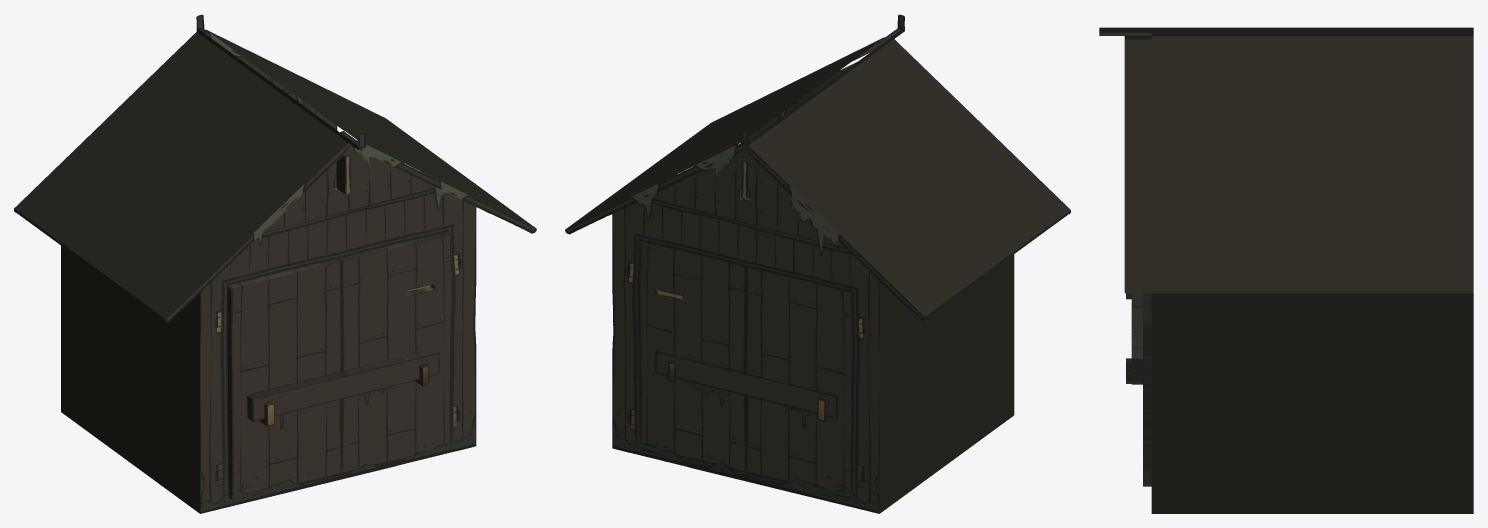
Rendered from little_house.fbx.
3 renders of one model, left to right at view 1: azimuth 30°, elevation 25°; view 2: azimuth 150°, elevation 25°; view 3: azimuth 270°, elevation 25°, orthographic. The views are drawn at different scales.
Visible parts, largest first — view 1: Plane; view 2: Plane; view 3: Plane.
Part boxes in pixels (box(x1,y1,x2,y2)): Plane: box(14, 14, 536, 513); Plane: box(565, 14, 1070, 513); Plane: box(1099, 27, 1473, 513).
Bounding box in the file's own units: 150 × 140 × 113.
